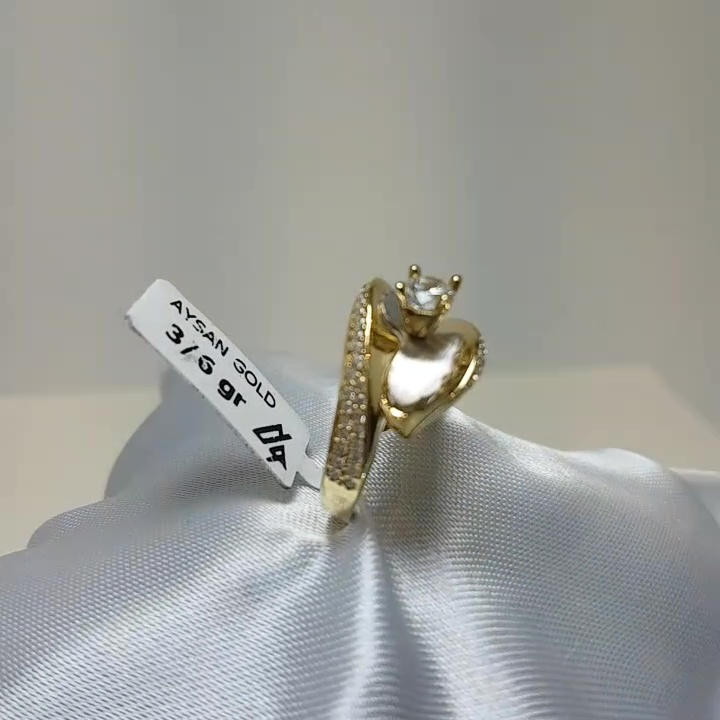Ring 6: (297, 225, 509, 559)
